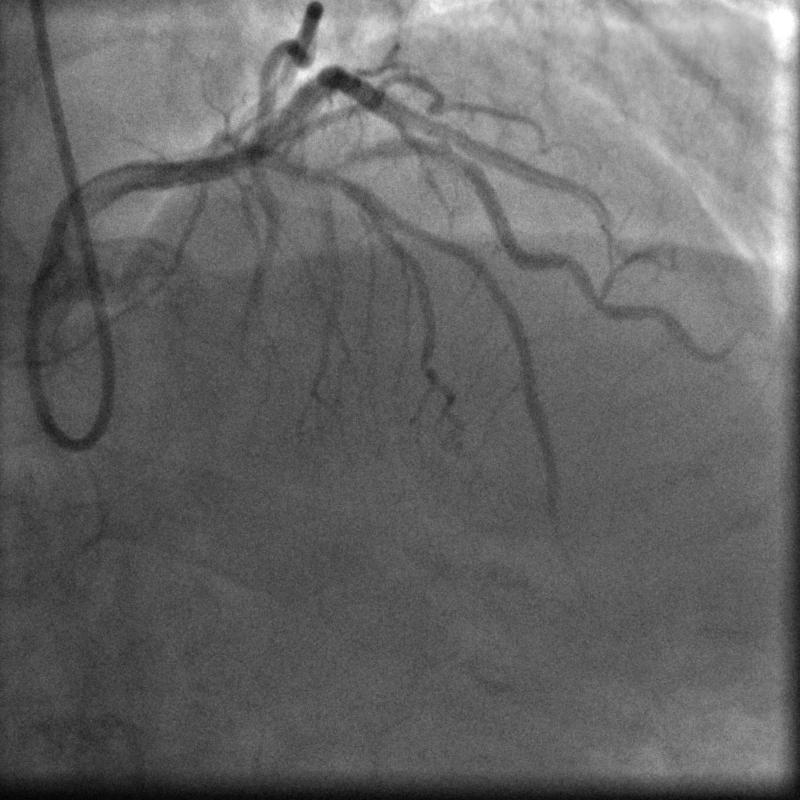Stenosis: (428, 134, 489, 179)
